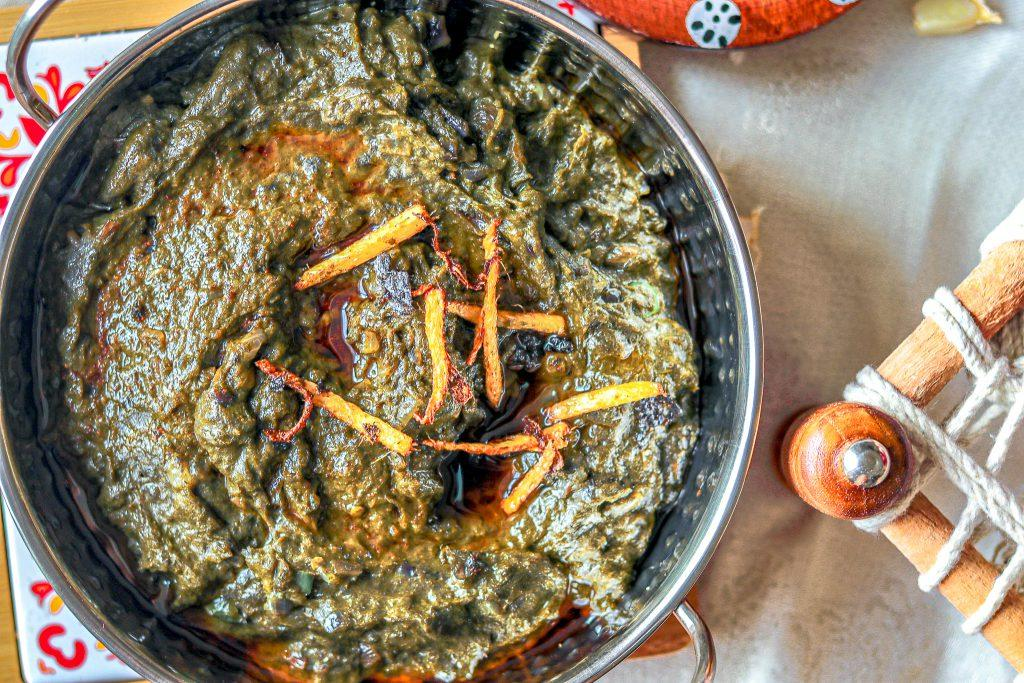saag: (54, 75, 703, 676)
